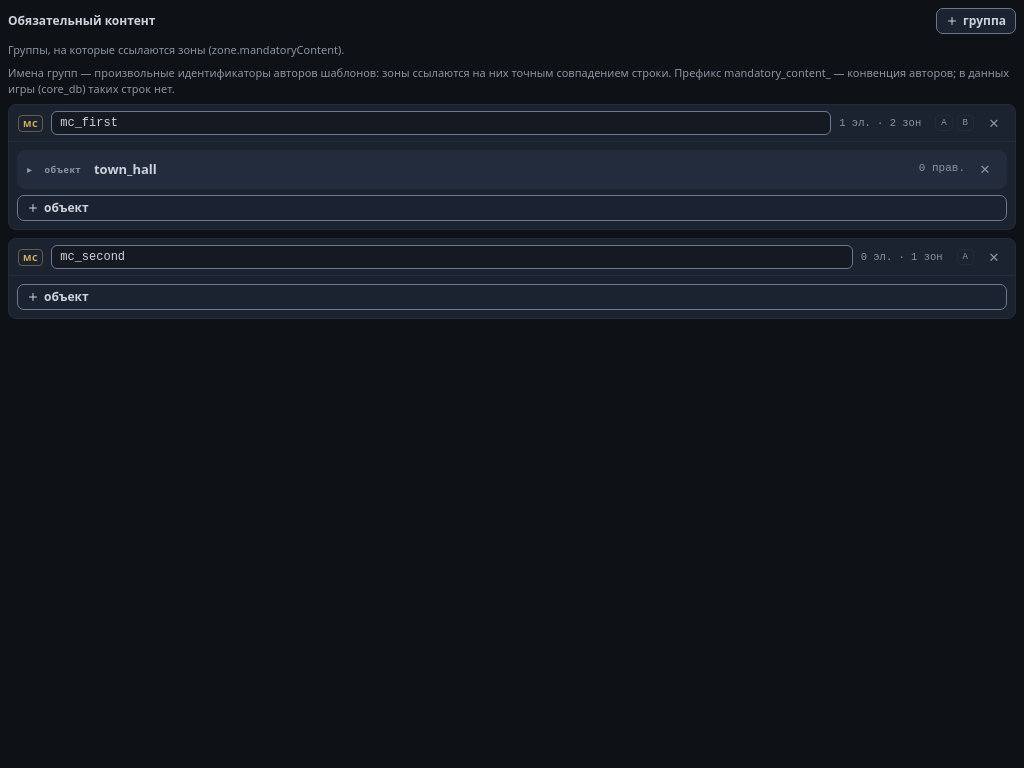
Test: удаление корневой группы (MandatoryContentPanel) › ✕ открывает подтверждение с составом группы; «Отмена» сохраняет группу
Click the button titled "Удалить группу" in the row of "1 эл. · 2 зон": (994, 123) [982,111,1006,135]
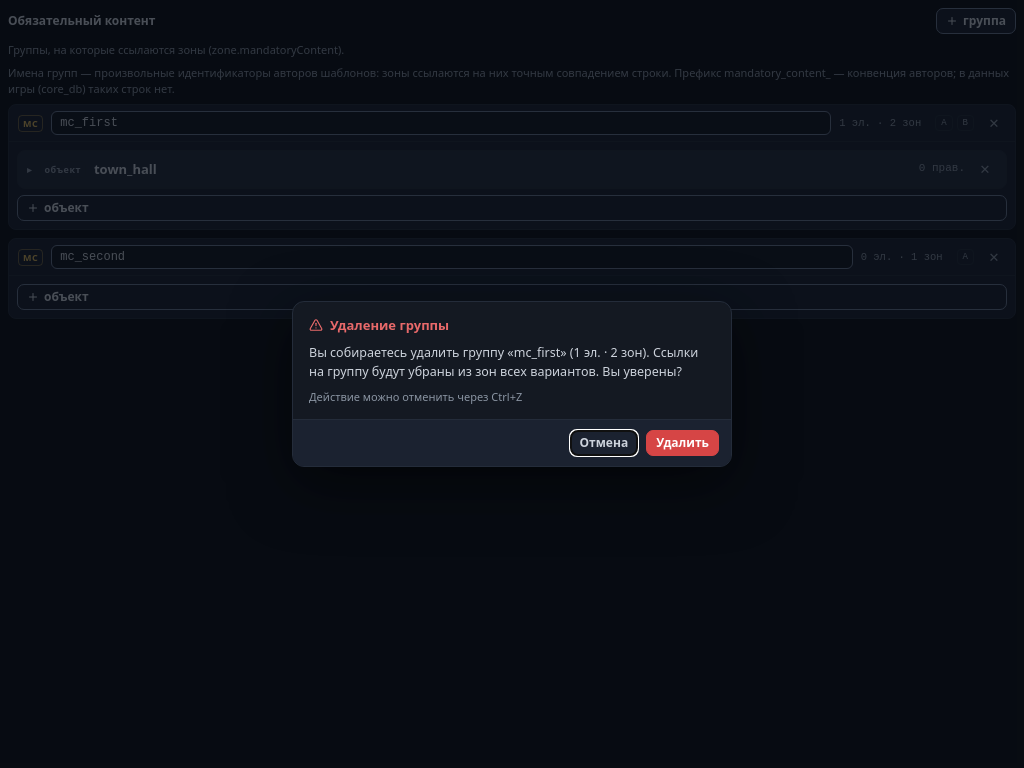
Check: the dialog shows "Действие можно отменить через Ctrl+Z", box [309,389,522,404]
Click the button "Отмена": (604, 443) [570,430,638,456]
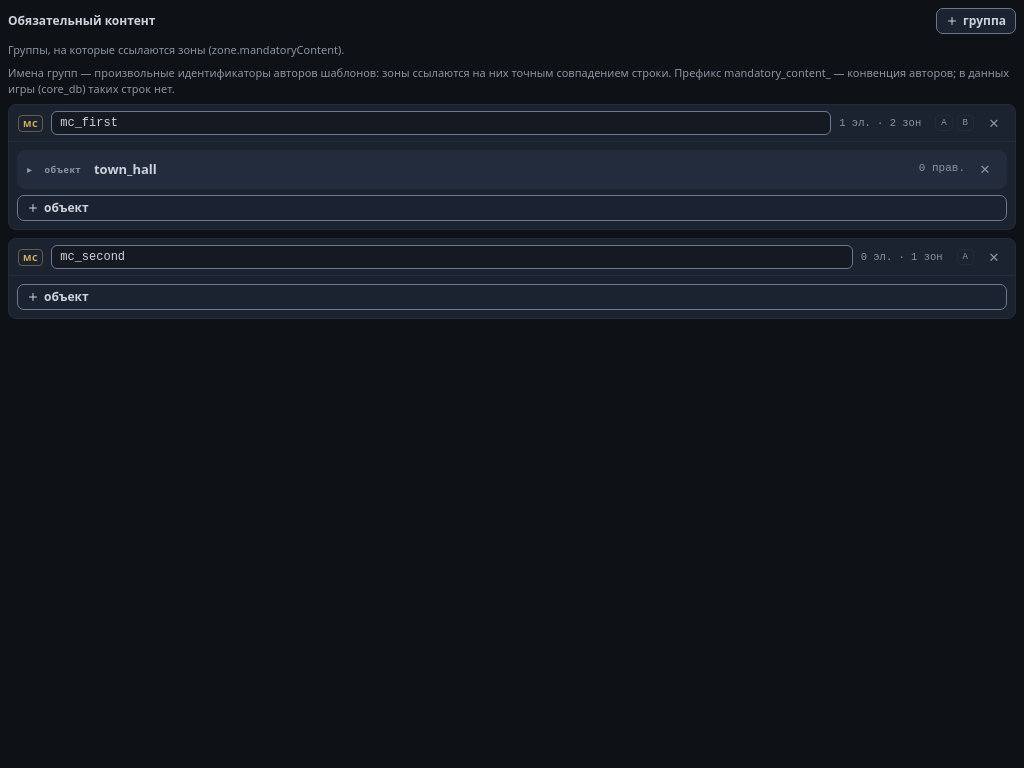
Check: the element with id "mcg-mc_first" is shown, box [8,104,1016,230]
Check: the dialog is gone
